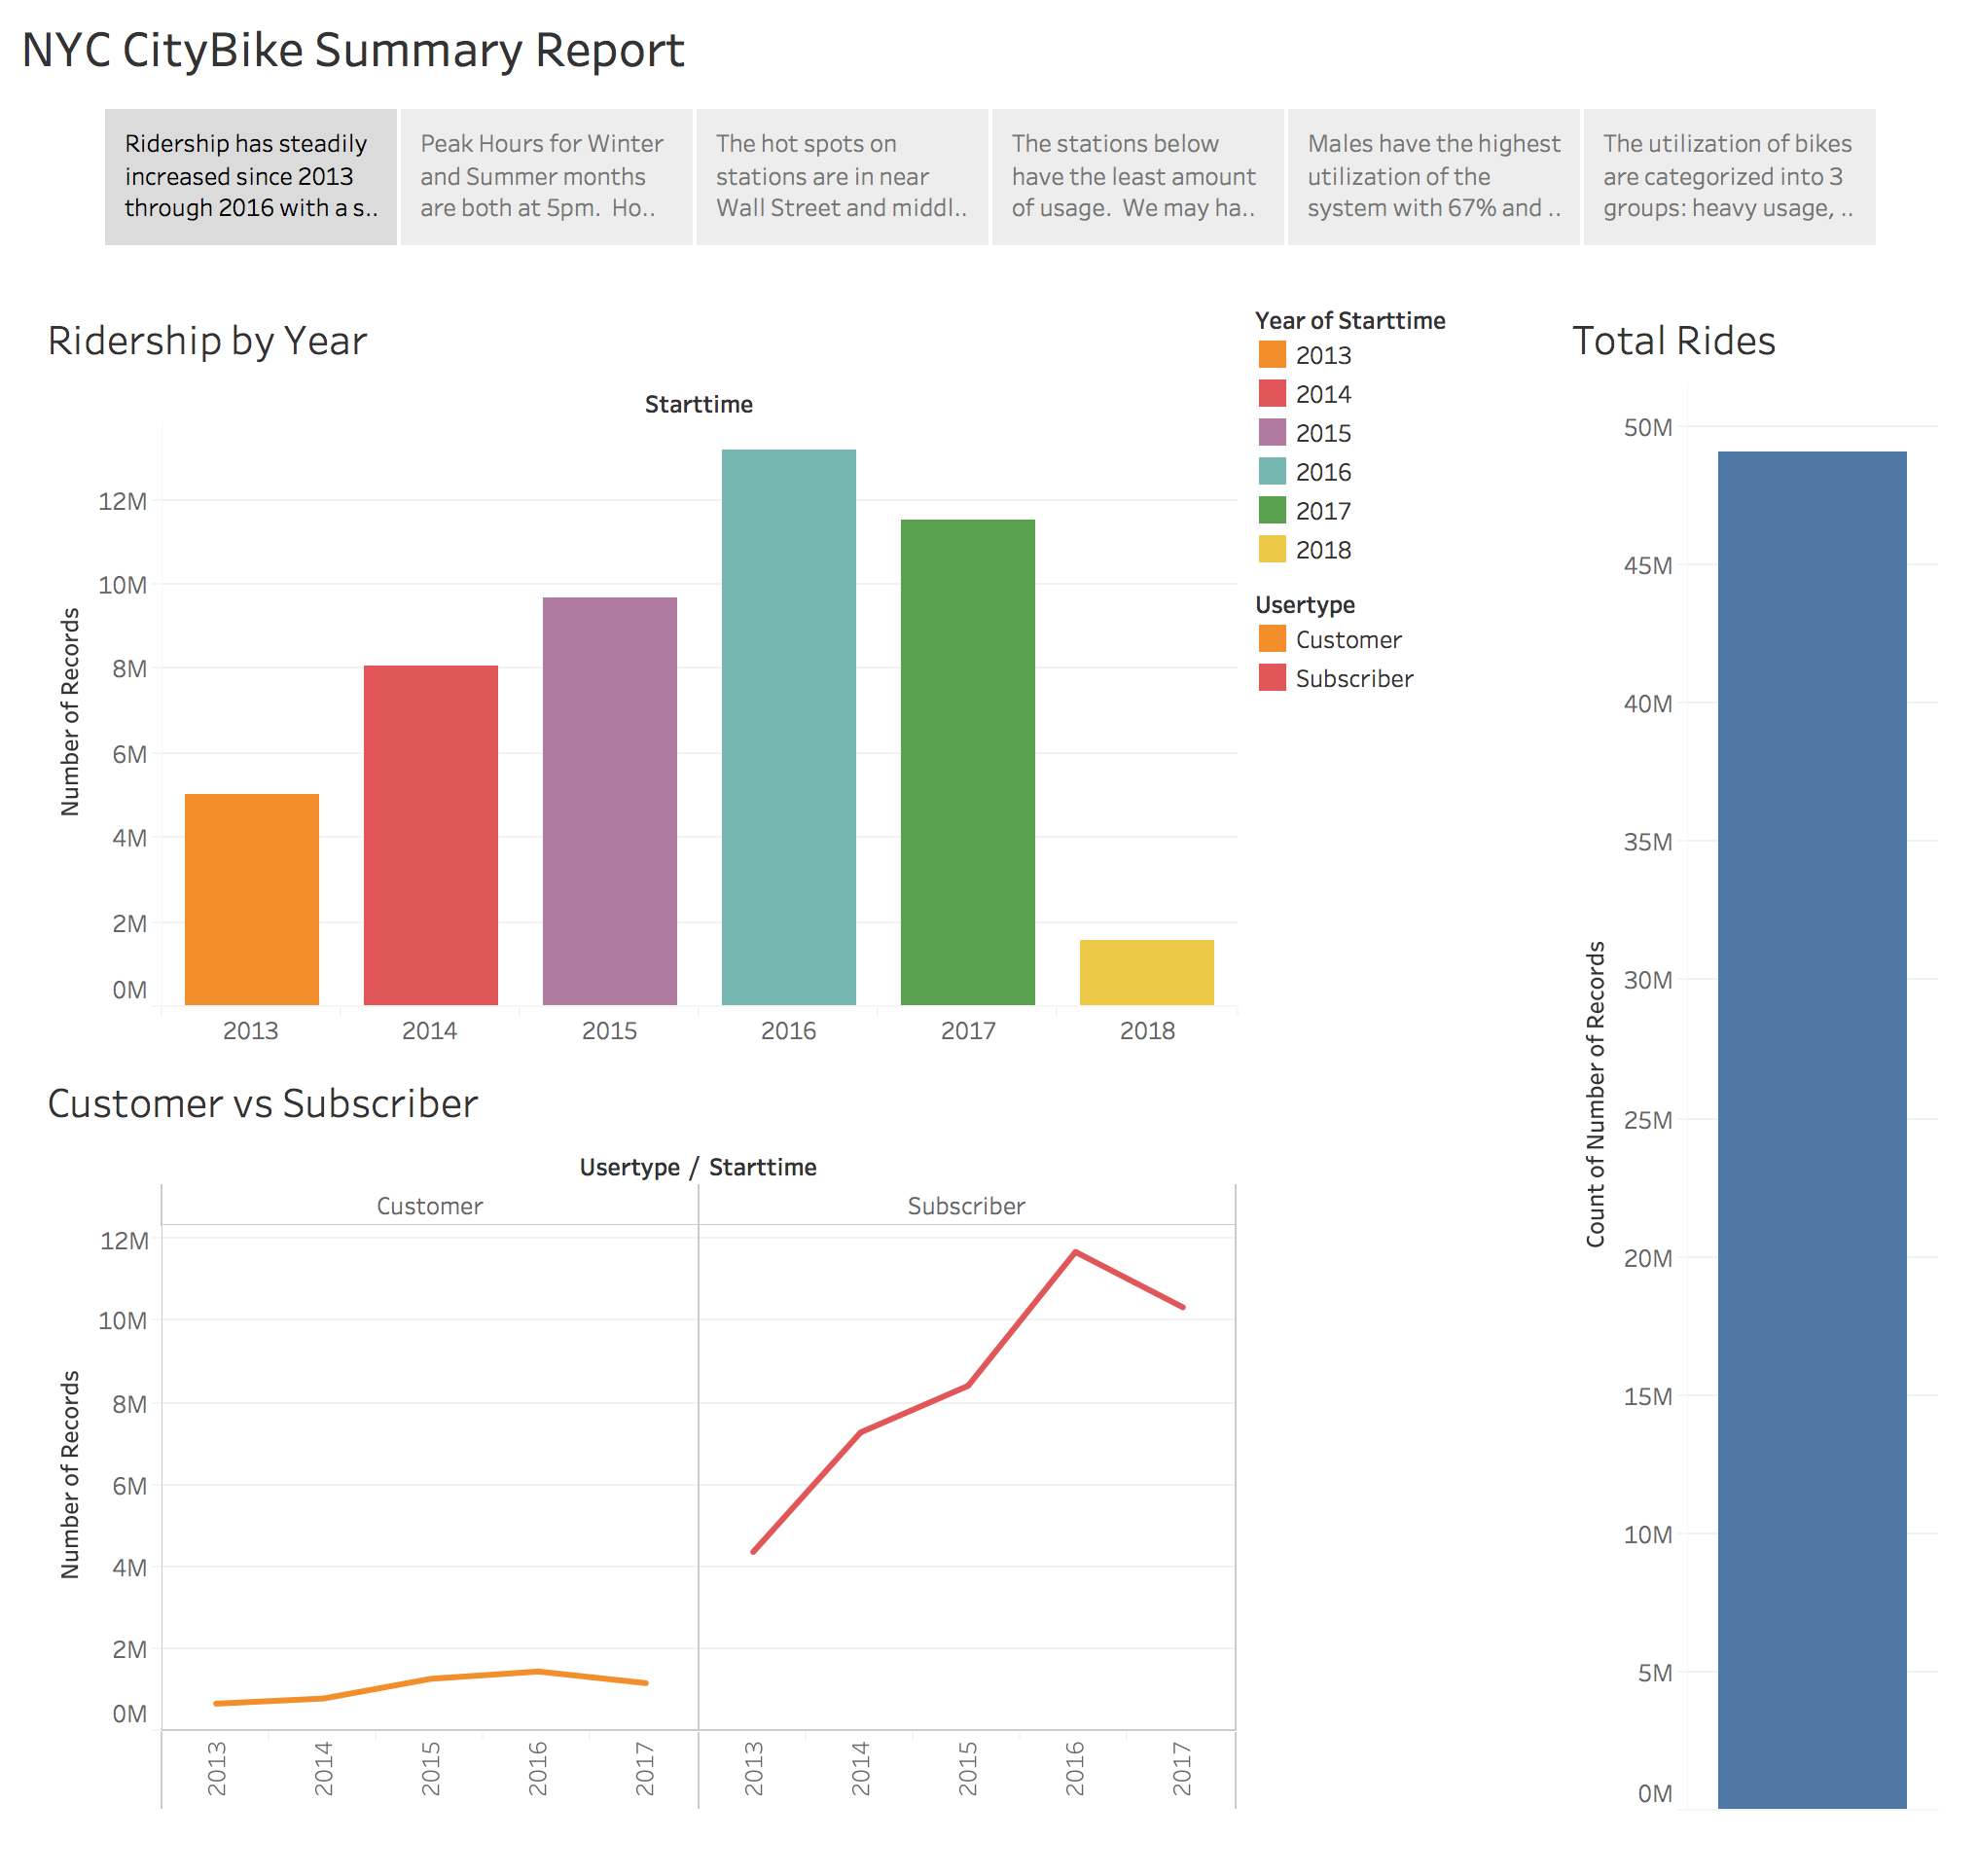

The page's visual inventory and layout, read from the dashboard file:
{"tool":"tableau","page":{"name":"Trips Data","canvas":[1000,800],"ordinal":5},"visuals":[{"type":"worksheet","title":"Ridership by Year","mark":"Bar","rows":["Number of Records"],"cols":["starttime"],"box":[8,8,624,392]},{"type":"legend","title":"Ridership by Year","param":"[federated.0x51q6s12otagk0zydfru00vy6tf].[yr:starttime:ok]","box":[632,8,160,146]},{"type":"worksheet","title":"Total Rides","mark":"Automatic","rows":["Number of Records"],"box":[792,8,200,784]},{"type":"legend","title":"Customer vs Subscriber","param":"[federated.0x51q6s12otagk0zydfru00vy6tf].[none:usertype:nk]","box":[632,154,160,66]},{"type":"worksheet","title":"Customer vs Subscriber","mark":"Automatic","rows":["Number of Records"],"cols":["usertype","starttime"],"box":[8,400,624,392]}]}

Visuals, with their boxes on the page's 1000x800 design canvas (x1, y1, x2, y2). These are canvas units, not pixel positions in the 1977x1876 screenshot, which may show the page scaled, cropped or inside an application window:
"Ridership by Year" worksheet (Bar marks): BBox(8, 8, 632, 400)
"Ridership by Year" legend: BBox(632, 8, 792, 154)
"Total Rides" worksheet: BBox(792, 8, 992, 792)
"Customer vs Subscriber" legend: BBox(632, 154, 792, 220)
"Customer vs Subscriber" worksheet: BBox(8, 400, 632, 792)
